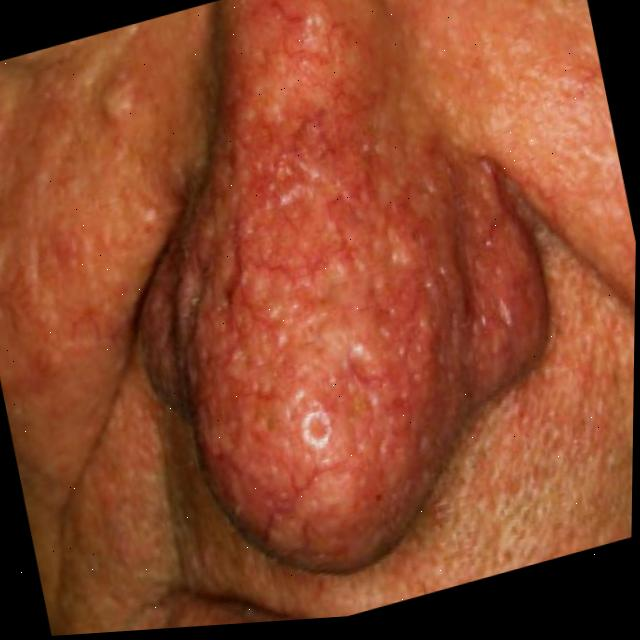Rosacea: (158, 43, 503, 505)
